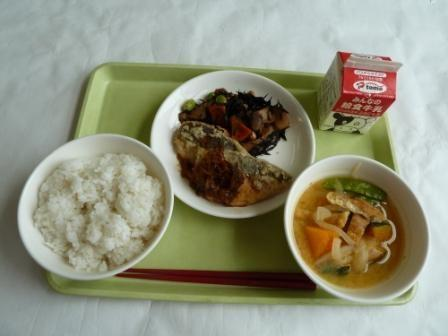Fish: (167, 125, 277, 205)
Milk: (327, 44, 409, 134)
Rice: (22, 143, 164, 277)
salad with sauce: (196, 76, 289, 144)
vegetable soup: (282, 160, 417, 289)
